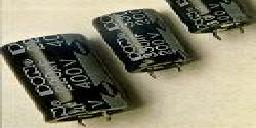Electrolytic-Capacitor: (1, 32, 132, 128), (91, 9, 197, 76), (165, 1, 252, 40)
